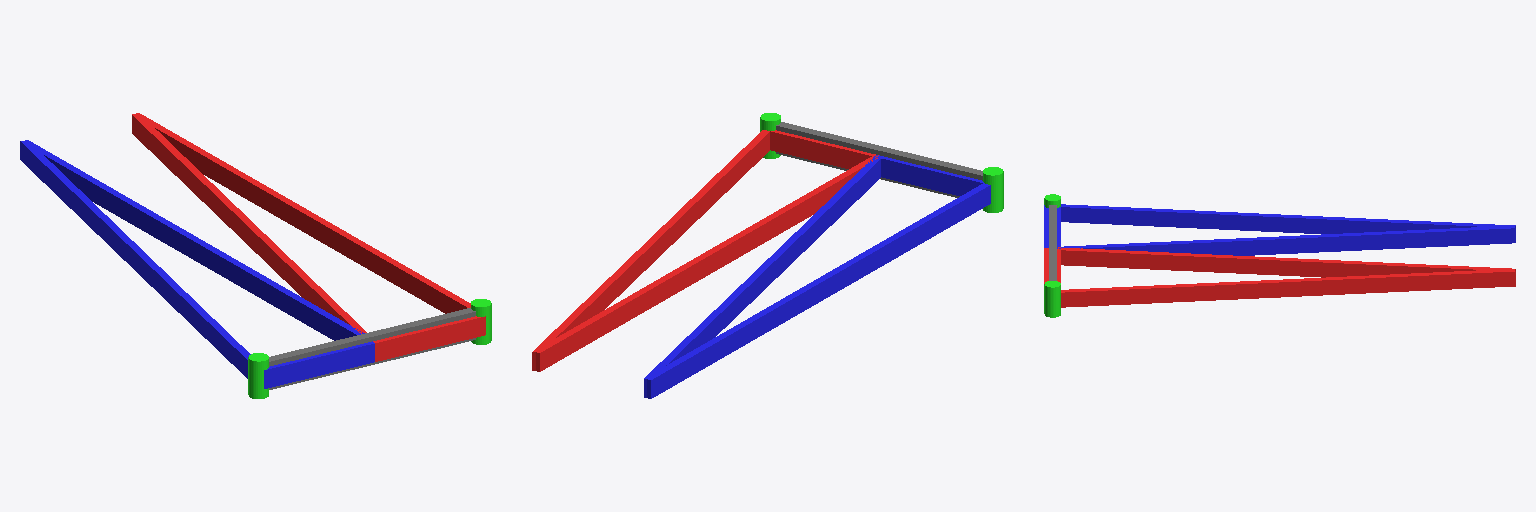
The robot description file, URDF, robot "gripper":
<?xml version="1.0"?>
<robot name="gripper">

  <material name="grey"><color rgba="0.5 0.5 0.5 1.0"/></material>
  <material name="red"><color rgba="1.0 0.2 0.2 1.0"/></material>
  <material name="blue"><color rgba="0.2 0.2 1.0 1.0"/></material>
  <material name="green"><color rgba="0.2 1.0 0.2 1.0"/></material>

  <link name="base">
    <visual>
      <origin xyz="0 0 0"/>
      <geometry><box size="0.0615 0.0025 0.0075"/></geometry>
      <material name="grey"/>
    </visual>
  </link>
  
  <link name="firstFinger">
    <visual>
      <origin xyz="0.015375 0 0" rpy="0 0 0"/>
      <geometry><box size="0.03075 0.005 0.005"/></geometry>
      <material name="blue"/>
    </visual>
    <visual>
      <origin xyz="0.0076875 0.0695 0" rpy="0 0 -0.1100"/>
      <geometry><box size="0.002 0.14 0.005"/></geometry>
      <material name="blue"/>
    </visual>
    <visual>
      <origin xyz="0.0230625 0.0695 0" rpy="0 0 0.1100"/>
      <geometry><box size="0.002 0.14 0.005"/></geometry>
      <material name="blue"/>
    </visual>
    <collision>
      <origin xyz="0.015375 0 0" rpy="0 0 0"/>
      <geometry><box size="0.03075 0.005 0.005"/></geometry>
    </collision>
  </link>

  <link name="secondFinger">
    <visual>
      <origin xyz="-0.015375 0 0" rpy="0 0 0"/>
      <geometry><box size="0.03075 0.005 0.005"/></geometry>
      <material name="red"/>
    </visual>
    <visual>
      <origin xyz="-0.0076875 0.0695 0" rpy="0 0 0.1100"/>
      <geometry><box size="0.002 0.14 0.005"/></geometry>
      <material name="red"/>
    </visual>
    <visual>
      <origin xyz="-0.0230625 0.0695 0" rpy="0 0 -0.1100"/>
      <geometry><box size="0.002 0.14 0.005"/></geometry>
      <material name="red"/>
    </visual>
    <collision>
      <origin xyz="-0.015375 0 0" rpy="0 0 0"/>
      <geometry><box size="0.03075 0.005 0.005"/></geometry>
    </collision>
  </link>

  <link name="firstHinge">
    <visual>
      <origin xyz="0 0 0"/>
      <geometry><cylinder radius="0.0025" length="0.01"/></geometry>
      <material name="green"/>
    </visual>
  </link>
  
  <link name="secondHinge">
    <visual>
      <origin xyz="0 0 0"/>
      <geometry><cylinder radius="0.0025" length="0.01"/></geometry>
      <material name="green"/>
    </visual>
  </link>

  <!-- joints -->
  <joint name="baseToFirstHinge" type="fixed">
    <parent link="base"/>
    <child link="firstHinge"/>
    <origin xyz="-0.03075 0 0" rpy="0 0 0"/>
  </joint>

  <joint name="baseToSecondHinge" type="fixed">
    <parent link="base"/>
    <child link="secondHinge"/>
    <origin xyz="0.03075 0 0" rpy="0 0 0"/>
  </joint>

  <joint name="firstFingerToFirstHinge" type="revolute">
    <parent link="firstHinge"/>
    <child link="firstFinger"/>
    <origin xyz="0 0 0" rpy="0 0 0"/>
    <axis xyz="0 0 1"/>
    <limit lower="-0.10994" upper="0.67546" effort="10" velocity="1.0"/>
  </joint>

  <joint name="secondFingerToSecondHinge" type="revolute">
    <parent link="secondHinge"/>
    <child link="secondFinger"/>
    <origin xyz="0 0 0" rpy="0 0 0"/>
    <axis xyz="0 0 1"/>
    <limit lower="-0.67546" upper="0.10994" effort="10" velocity="1.0"/>
  </joint>

</robot>

--- Render facts (derived) ---
3 views of the same robot in one strip: view 1: azimuth 30°, elevation 25°; view 2: azimuth 150°, elevation 25°; view 3: azimuth 270°, elevation 25° (orthographic).
Model gripper with 5 links and 4 joints (2 revolute, 2 fixed), rooted at base, posed all joints at 0.
Links seen in each view (by area): view 1: firstFinger, secondFinger, base, firstHinge, secondHinge; view 2: firstFinger, secondFinger, base, firstHinge; view 3: secondFinger, firstFinger, base, secondHinge.
Link boxes in pixels (<box>): firstFinger: <box>20,140,374,388</box>; secondFinger: <box>132,113,485,361</box>; base: <box>269,308,475,389</box>; firstHinge: <box>248,353,268,398</box>; secondHinge: <box>471,299,491,344</box>; firstFinger: <box>644,155,990,398</box>; secondFinger: <box>532,130,878,371</box>; base: <box>776,122,982,197</box>; firstHinge: <box>983,167,1003,212</box>; secondFinger: <box>1044,247,1515,307</box>; firstFinger: <box>1044,204,1515,255</box>; base: <box>1049,205,1056,280</box>; secondHinge: <box>1044,281,1060,317</box>.
Bounding box of the posed robot: 0.0665 × 0.1417 × 0.01 m (x, y, z).
Geometry: primitives only (box / cylinder / sphere), no mesh files.
